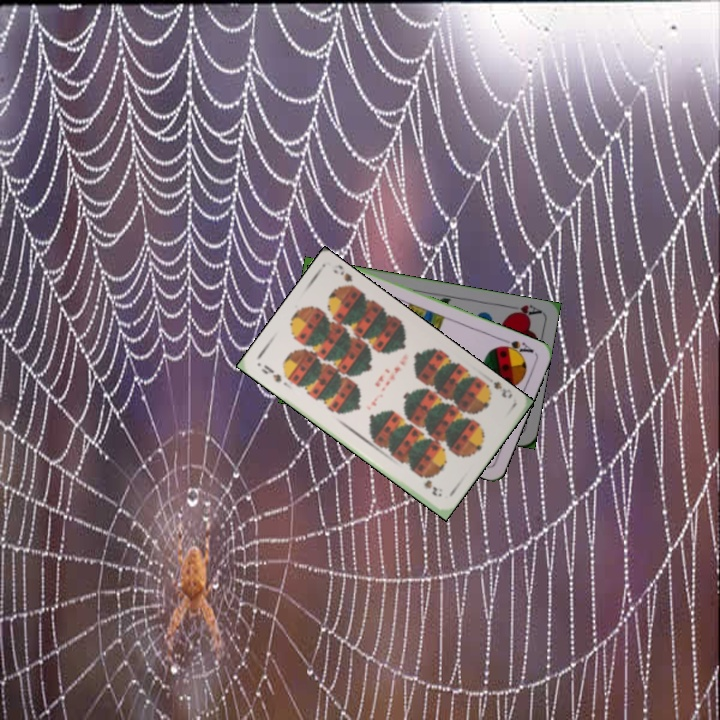HA: (503, 301, 543, 320)
S9: (478, 377, 515, 401), (257, 361, 284, 385)
SA: (495, 334, 536, 359)
